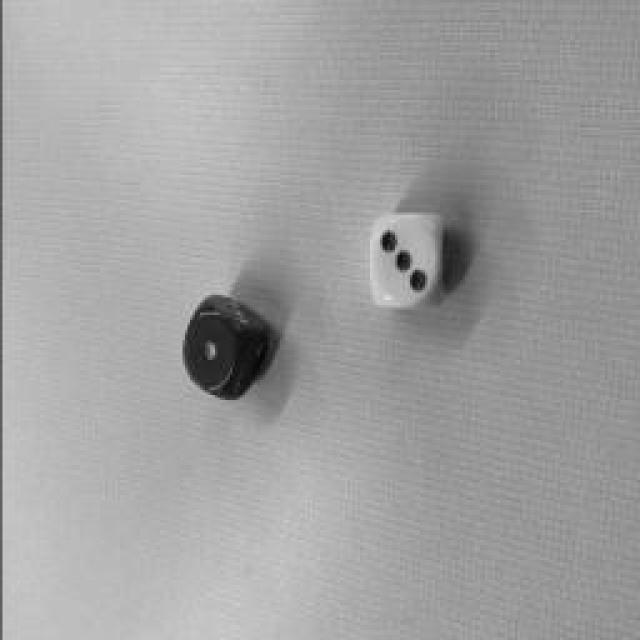dice_1: (182, 309, 240, 391)
dice_3: (370, 216, 440, 304)
